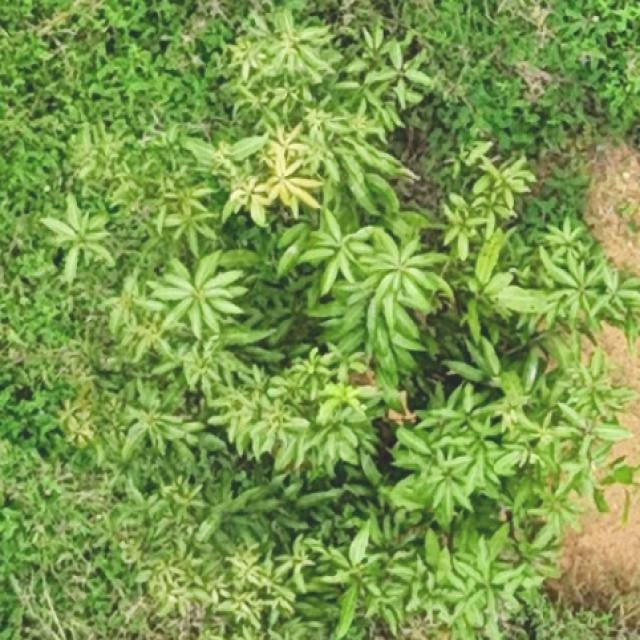mangoTree: (36, 1, 640, 640)
